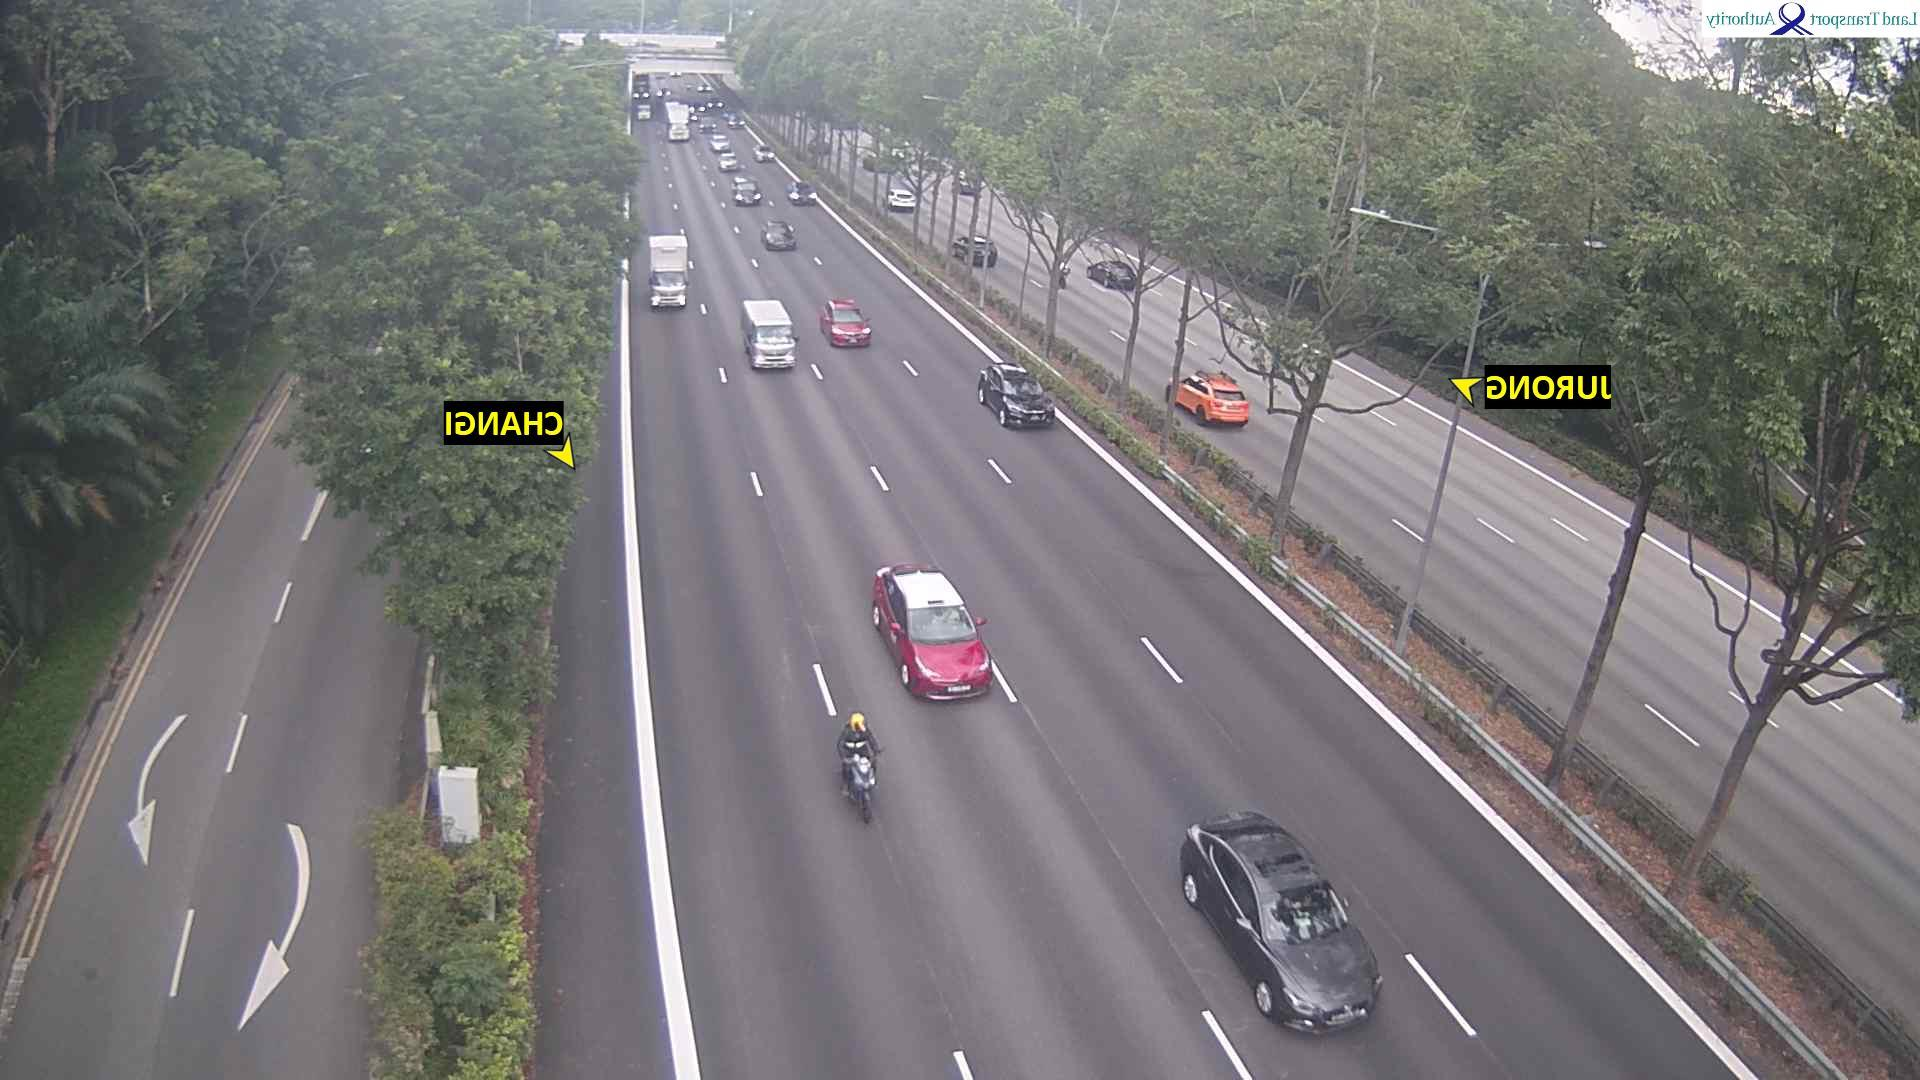cars: (1180, 808, 1385, 1035), (872, 561, 994, 701), (978, 361, 1057, 428), (1168, 370, 1251, 426), (742, 297, 799, 369), (820, 297, 873, 347), (1087, 258, 1139, 290), (954, 233, 999, 268), (763, 218, 797, 250), (860, 149, 901, 173), (732, 175, 763, 205), (668, 103, 691, 141), (888, 182, 918, 210), (787, 178, 818, 204), (956, 170, 986, 195), (630, 72, 650, 101), (808, 134, 833, 156), (719, 150, 742, 171), (754, 141, 776, 162), (710, 131, 732, 152), (696, 115, 717, 134), (726, 110, 747, 128), (694, 80, 712, 94), (687, 101, 706, 114), (638, 103, 652, 120), (707, 96, 724, 110)
motorcycle: (838, 735, 884, 824), (1054, 259, 1072, 288)
trucks: (644, 233, 691, 313)
